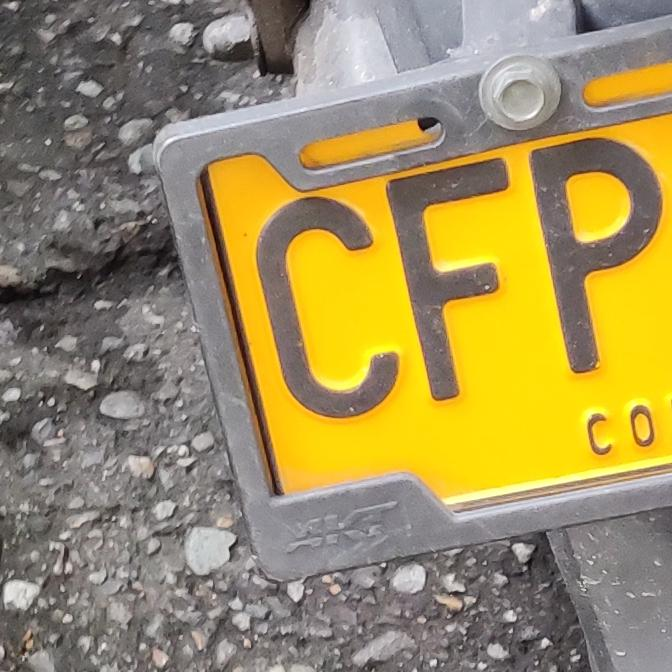plates: (172, 49, 672, 566)
